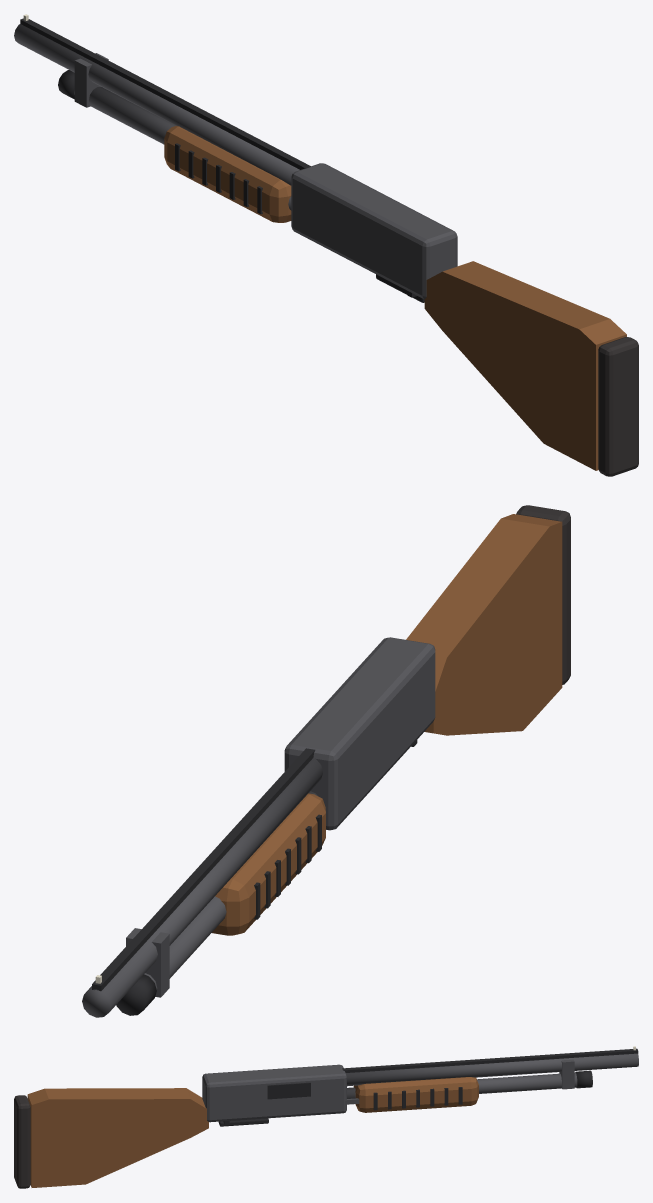
The model's file is shotgun_world.glb.
The picture shows the model from 3 angles, top to bottom: view 1: azimuth 30°, elevation 25°; view 2: azimuth 150°, elevation 25°; view 3: azimuth 270°, elevation 25°; orthographic projection. The views are drawn at different scales.
Parts seen in each view (by area): view 1: Stock, Receiver, Barrel, RecoilPad, Forend, Rib, MagTube, BarrelBand; view 2: Stock, Receiver, Barrel, Forend, Rib, RecoilPad, MagTube, BarrelBand, MagCap; view 3: Stock, Receiver, Barrel, Forend, Rib, RecoilPad, MagTube, EjectionPort, BarrelBand, MagCap, TriggerGuard.
Part boxes in pixels (x1,y1,x2,y2): Stock: (424, 261, 626, 470); Receiver: (291, 163, 457, 299); Barrel: (14, 24, 299, 185); RecoilPad: (598, 337, 638, 476); Forend: (164, 126, 291, 222); Rib: (20, 18, 311, 169); MagTube: (74, 87, 291, 210); BarrelBand: (74, 53, 108, 107); Stock: (406, 514, 562, 735); Receiver: (284, 637, 435, 830); Barrel: (82, 758, 322, 1017); Forend: (212, 793, 325, 935); Rib: (92, 748, 315, 991); RecoilPad: (516, 505, 570, 684); MagTube: (144, 791, 317, 989); BarrelBand: (126, 928, 169, 997); MagCap: (116, 974, 156, 1015); Stock: (27, 1088, 208, 1187); Receiver: (202, 1064, 346, 1122); Barrel: (346, 1053, 638, 1086); Forend: (353, 1077, 478, 1112); Rib: (342, 1048, 638, 1072); RecoilPad: (14, 1095, 30, 1188); MagTube: (347, 1072, 577, 1098); EjectionPort: (267, 1082, 310, 1099); BarrelBand: (559, 1059, 574, 1089); MagCap: (575, 1070, 592, 1088); TriggerGuard: (218, 1118, 268, 1126).
Bounding box in the file's own units: 0.1892 × 0.1691 × 0.9921.
